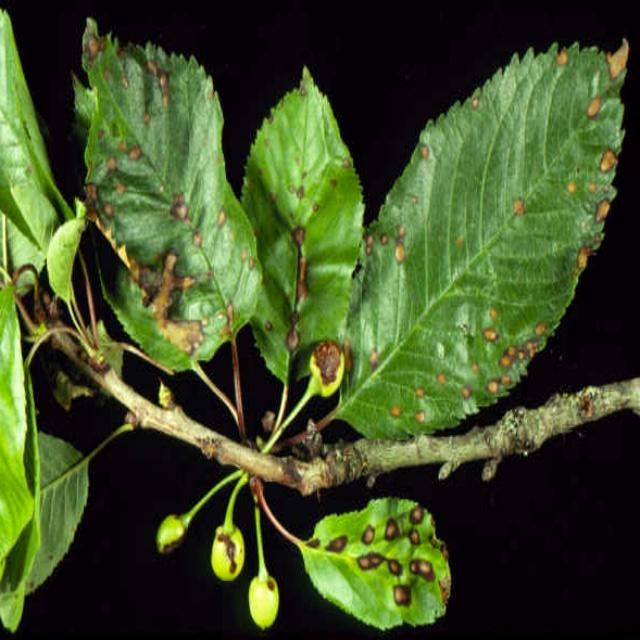shot_hole: (290, 490, 460, 640)
